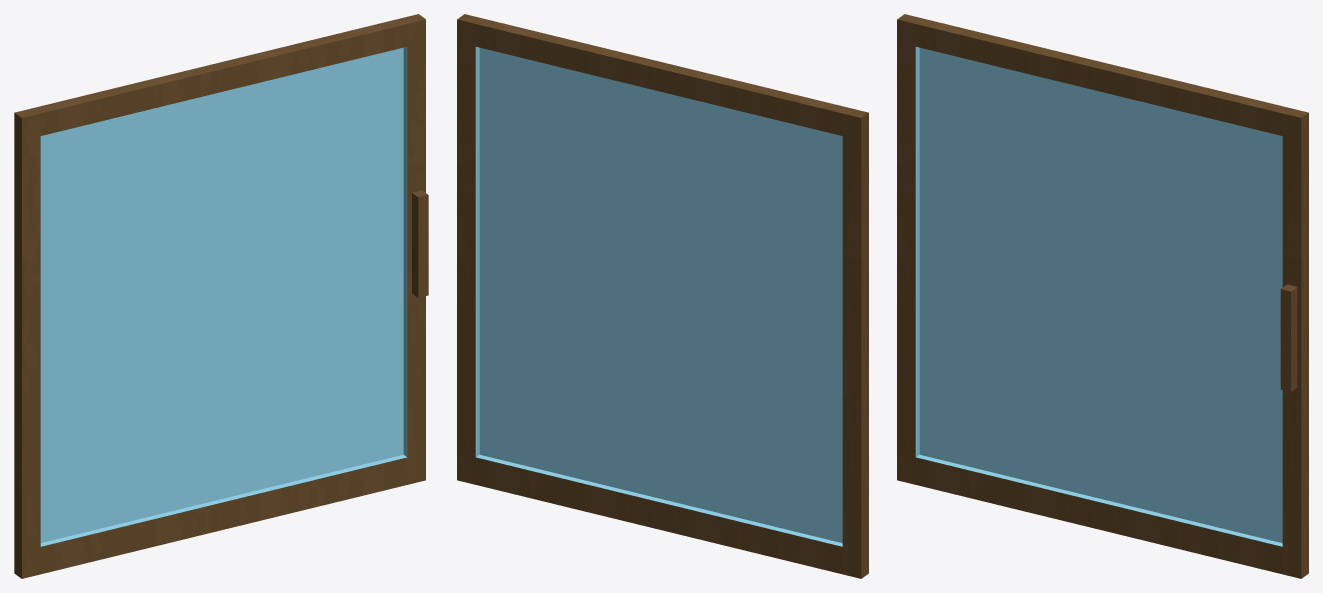
The model's file is window.dae.
3 renders of one model, left to right at view 1: azimuth 30°, elevation 25°; view 2: azimuth 150°, elevation 25°; view 3: azimuth 330°, elevation 25°, orthographic.
Visible parts, largest first — view 1: Würfel.22 (×2), Würfel.21 (×2); view 2: Würfel.22 (×2), Würfel.21; view 3: Würfel.22 (×2), Würfel.21 (×2).
Boxes of the visible parts, bbox=[...] form: Würfel.22 (×2): bbox=[40, 46, 407, 546]; Würfel.21 (×2): bbox=[14, 14, 428, 578]; Würfel.22 (×2): bbox=[475, 47, 842, 546]; Würfel.21: bbox=[457, 14, 868, 578]; Würfel.22 (×2): bbox=[915, 47, 1282, 546]; Würfel.21 (×2): bbox=[897, 14, 1308, 578].
Size of the model in its own units: 126 by 137 by 7.43.
Materials: 2 (1 with a texture image).
